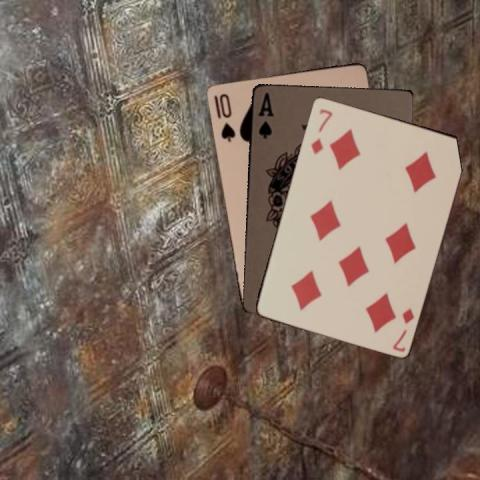10s: (216, 90, 237, 142)
7d: (308, 105, 334, 155), (390, 304, 416, 352)
As: (254, 89, 275, 140)
